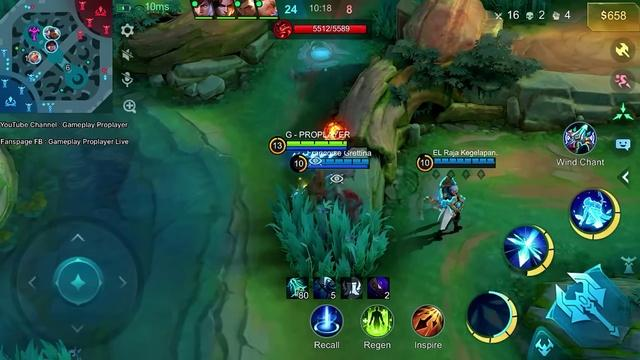bush: (267, 188, 387, 277), (0, 339, 77, 360), (484, 0, 554, 20), (369, 0, 397, 39), (0, 0, 19, 19)
hp_self: (287, 141, 348, 146)
